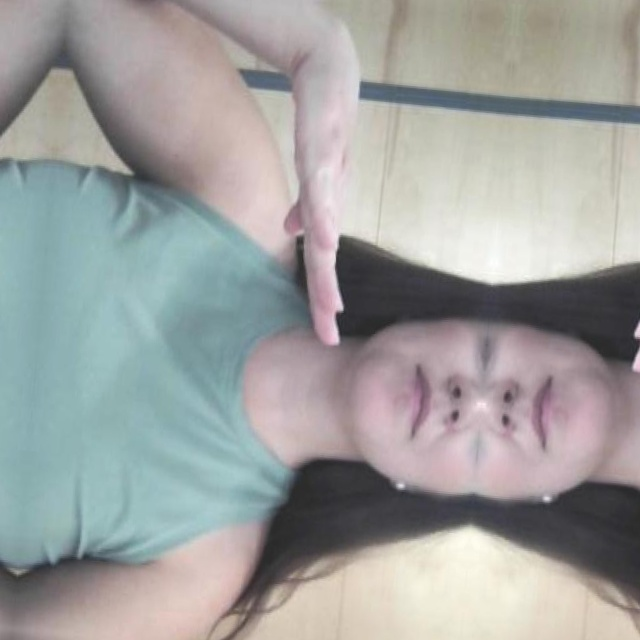Paper: (617, 51, 640, 393)
